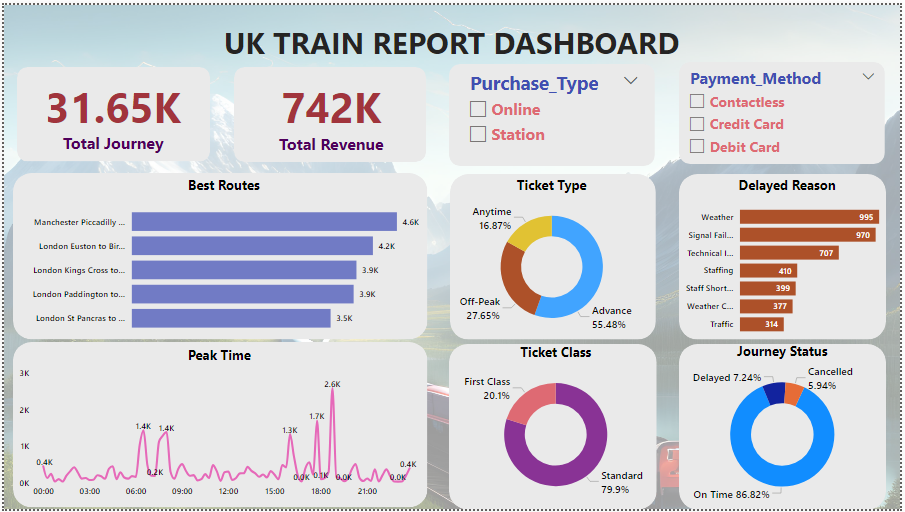

Layout of this report page (visuals, bound fields, positions):
{"tool":"powerbi","page":{"name":"Page 2","canvas":[1280,720],"ordinal":0},"visuals":[{"type":"cardVisual","fields":{"Data":["CountNonNull(railway.Journey_Status)"]},"box":[38.6,87.1,238.6,140],"z":0},{"type":"cardVisual","fields":{"Data":["Sum(railway.Price)"]},"box":[343.3,87.1,255.7,140],"z":1},{"type":"cardVisual","fields":{"Data":["railway.status"]},"box":[665.2,87.1,255.7,140],"z":2},{"type":"cardVisual","fields":{"Data":["railway.rail"]},"box":[987.1,87.1,255.7,140],"z":3},{"type":"clusteredBarChart","title":"Most Popular Route","fields":{"Category":["railway.routes"],"Y":["CountNonNull(railway.Transaction_ID)"]},"box":[38.6,250,590,220],"z":4},{"type":"areaChart","title":"Peak Hour","fields":{"Category":["railway.Departure_Time"],"Y":["CountNonNull(railway.Transaction_ID)"]},"box":[651.4,250,591.4,220],"z":5},{"type":"donutChart","title":"Ticket Type","fields":{"Category":["railway.Ticket_Type"],"Y":["CountNonNull(railway.Transaction_ID)"]},"box":[38.6,480,282.9,220],"z":6},{"type":"donutChart","title":"Ticket Type","fields":{"Category":["railway.Ticket_Class"],"Y":["railway.Total revenue"]},"box":[346.8,480,282,220],"z":7},{"type":"donutChart","title":"Ticket Type","fields":{"Y":["CountNonNull(railway.Transaction_ID)"],"Category":["railway.Journey_Status"]},"box":[654.1,480,282,220],"z":8},{"type":"donutChart","title":"Ticket Type","fields":{"Category":["railway.Reason_for_Delay (groups)"],"Y":["CountNonNull(railway.Transaction_ID)"]},"box":[961.4,480,281.4,220],"z":9},{"type":"textbox","box":[547.1,12.9,172.9,61.4],"z":10},{"type":"textbox","box":[150,562.9,58.6,54.3],"z":11},{"type":"textbox","box":[457.1,562.9,58.6,54.3],"z":12},{"type":"textbox","box":[755.7,562.9,74.3,54.3],"z":13},{"type":"textbox","box":[1064.3,562.9,74.3,54.3],"z":14}]}

Visuals, with their boxes in screenshot pixels (x1, y1, x2, y2), scaled from the page's 1280x720 canvas onto the 905x512 screenshot:
cardVisual - CountNonNull(railway.Journey_Status): <region>27, 62, 196, 161</region>
cardVisual - Sum(railway.Price): <region>243, 62, 424, 161</region>
cardVisual - railway.status: <region>470, 62, 651, 161</region>
cardVisual - railway.rail: <region>698, 62, 879, 161</region>
"Most Popular Route" clusteredBarChart: <region>27, 178, 444, 334</region>
"Peak Hour" areaChart: <region>461, 178, 879, 334</region>
"Ticket Type" donutChart: <region>27, 341, 227, 498</region>
"Ticket Type" donutChart: <region>245, 341, 445, 498</region>
"Ticket Type" donutChart: <region>462, 341, 662, 498</region>
"Ticket Type" donutChart: <region>680, 341, 879, 498</region>
textbox: <region>387, 9, 509, 53</region>
textbox: <region>106, 400, 147, 439</region>
textbox: <region>323, 400, 365, 439</region>
textbox: <region>534, 400, 587, 439</region>
textbox: <region>752, 400, 805, 439</region>
